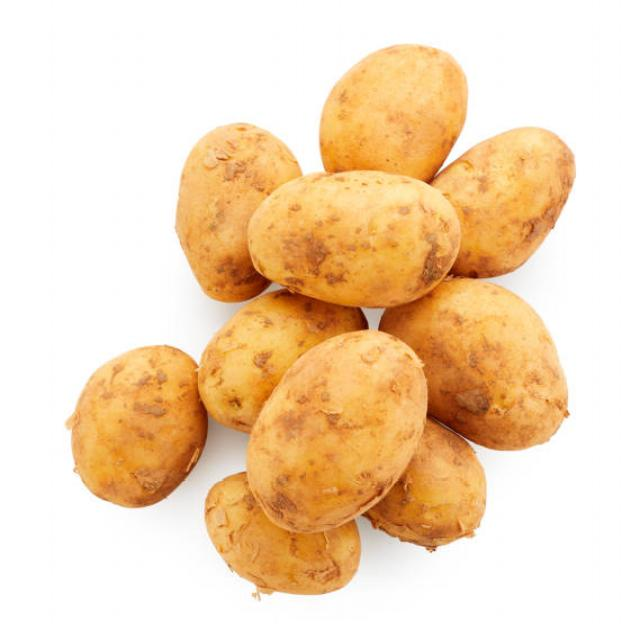Potato: (252, 328, 430, 542), (248, 169, 458, 307), (414, 283, 572, 452), (69, 344, 202, 515), (317, 37, 466, 170), (464, 120, 574, 276), (172, 120, 262, 298), (396, 434, 494, 553)
